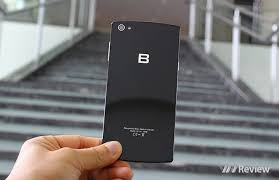bphone: (99, 19, 180, 164)
